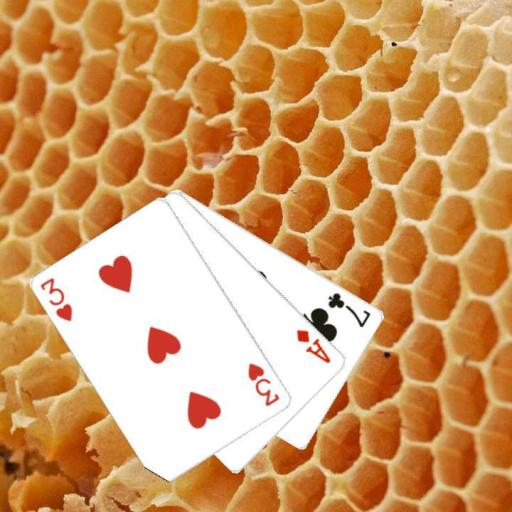3H: (37, 275, 75, 324), (245, 359, 282, 408)
7C: (325, 289, 373, 329)
AD: (294, 326, 333, 366)
